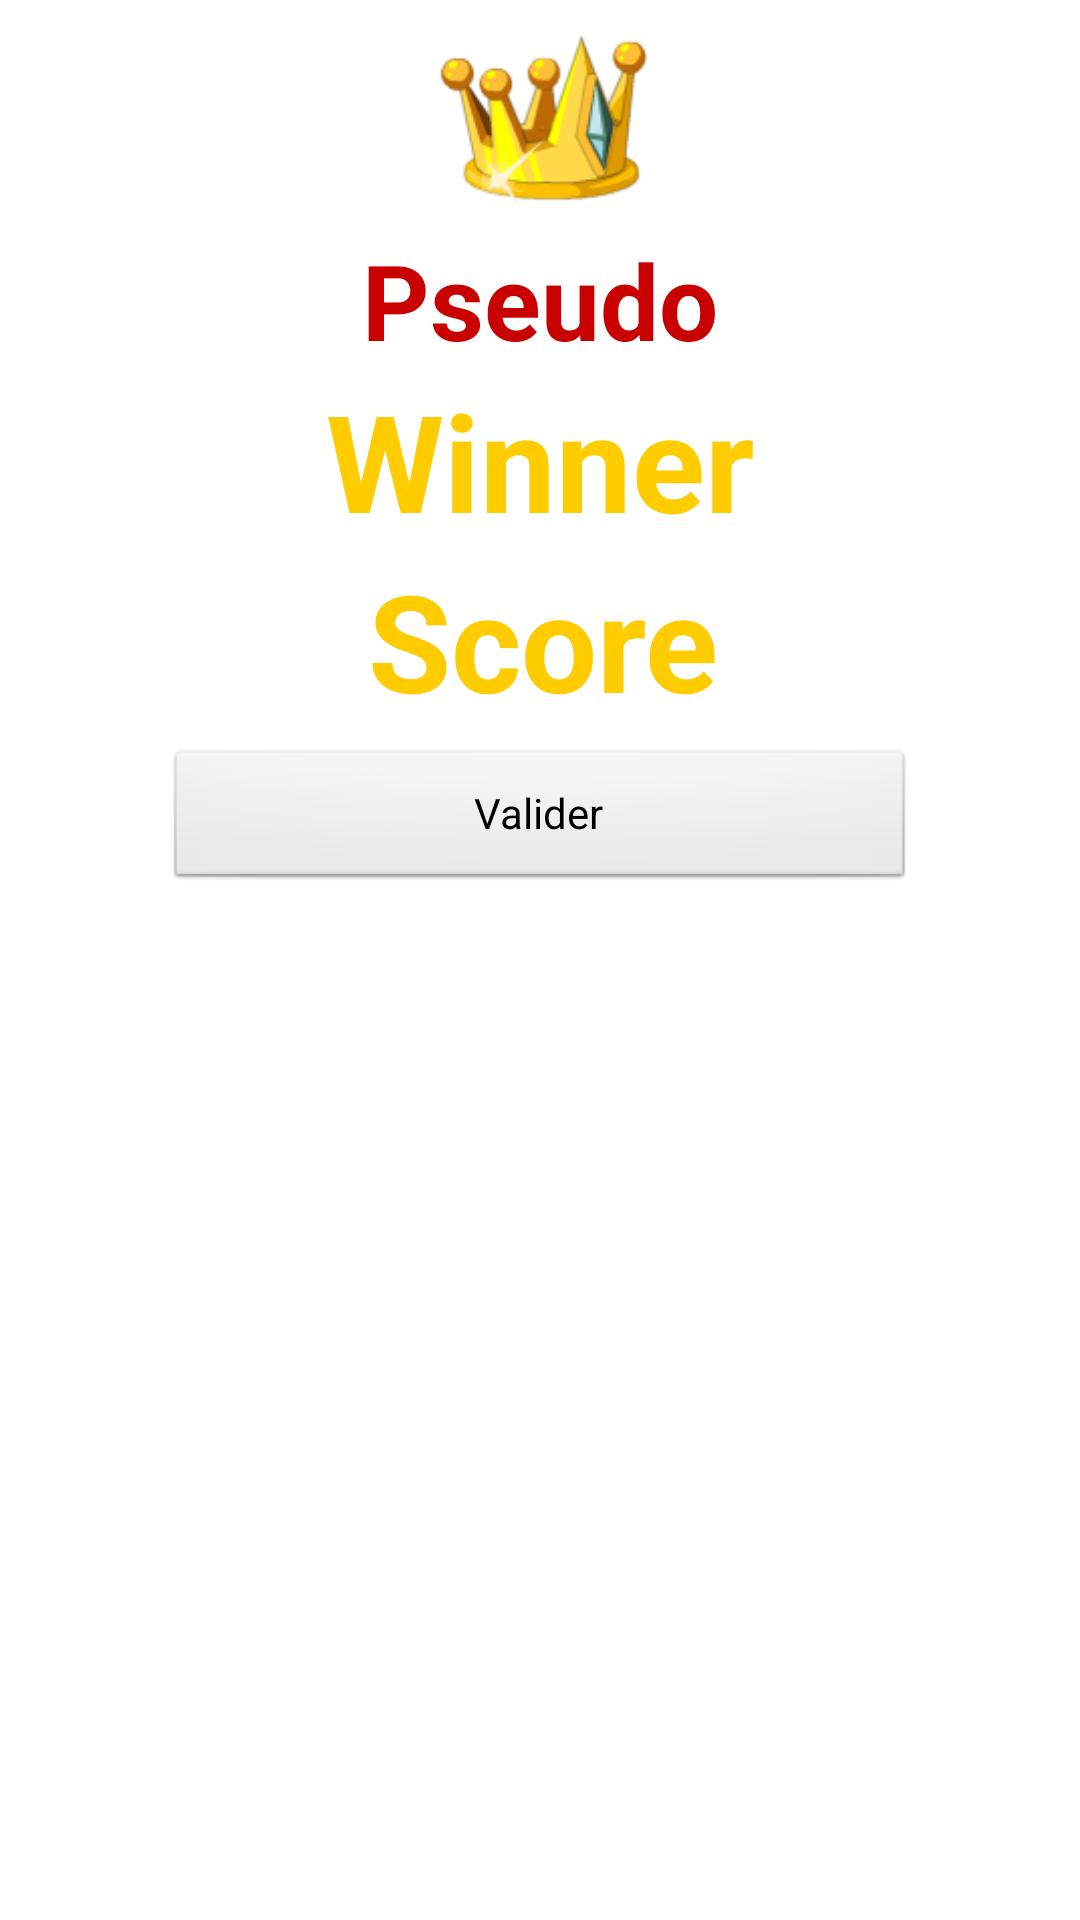

Point at icon controls on the screen. Image size 1080w x 1920h, points as point (x, y).
couronne: point (543, 119)
